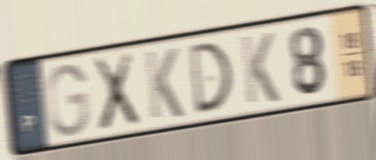8: (289, 25, 329, 99)
D: (187, 38, 235, 118)
G: (45, 60, 91, 139)
K: (142, 45, 186, 122), (238, 30, 282, 107)
X: (90, 49, 142, 136)
